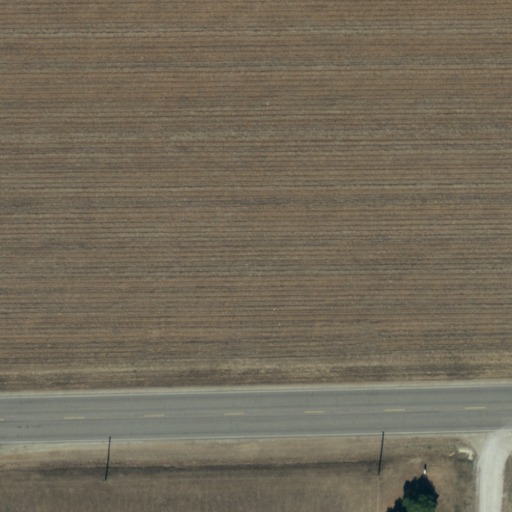DT: (92, 471, 120, 491), (364, 465, 392, 485)
